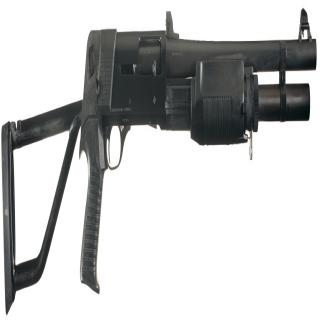gun: (1, 8, 318, 311)
